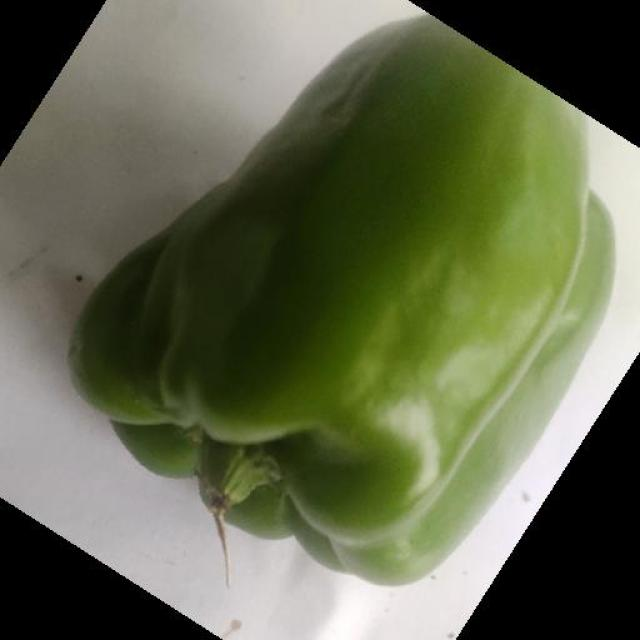Stale_Capsicum: (121, 36, 410, 382)
